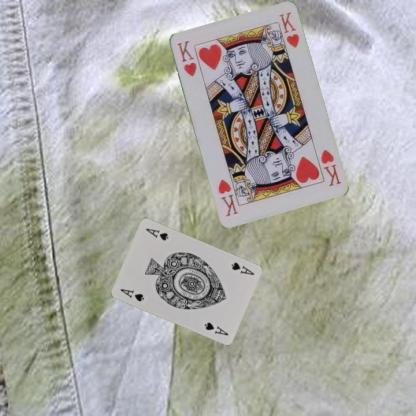As: (117, 286, 145, 303), (228, 260, 256, 276)
Kh: (318, 146, 342, 188), (174, 38, 198, 79)
